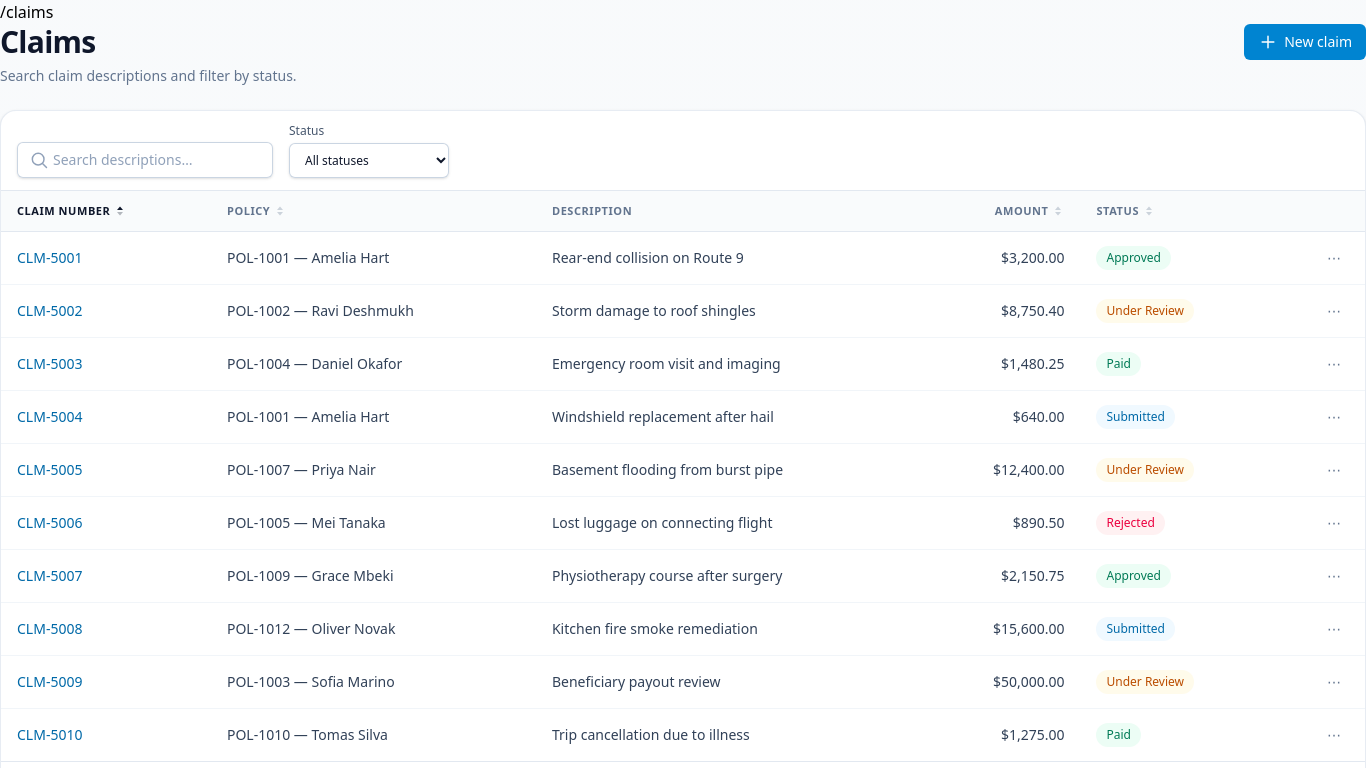
it: ClaimListPage › deletes a claim after confirmation
The width and height of the screenshot is (1366, 768).
Expected: the link "CLM-5001" is shown, left=17, top=248, right=82, bottom=267
Click the button "⋯" in the row of "CLM-5001": (1334, 258) left=1319, top=244, right=1349, bottom=272
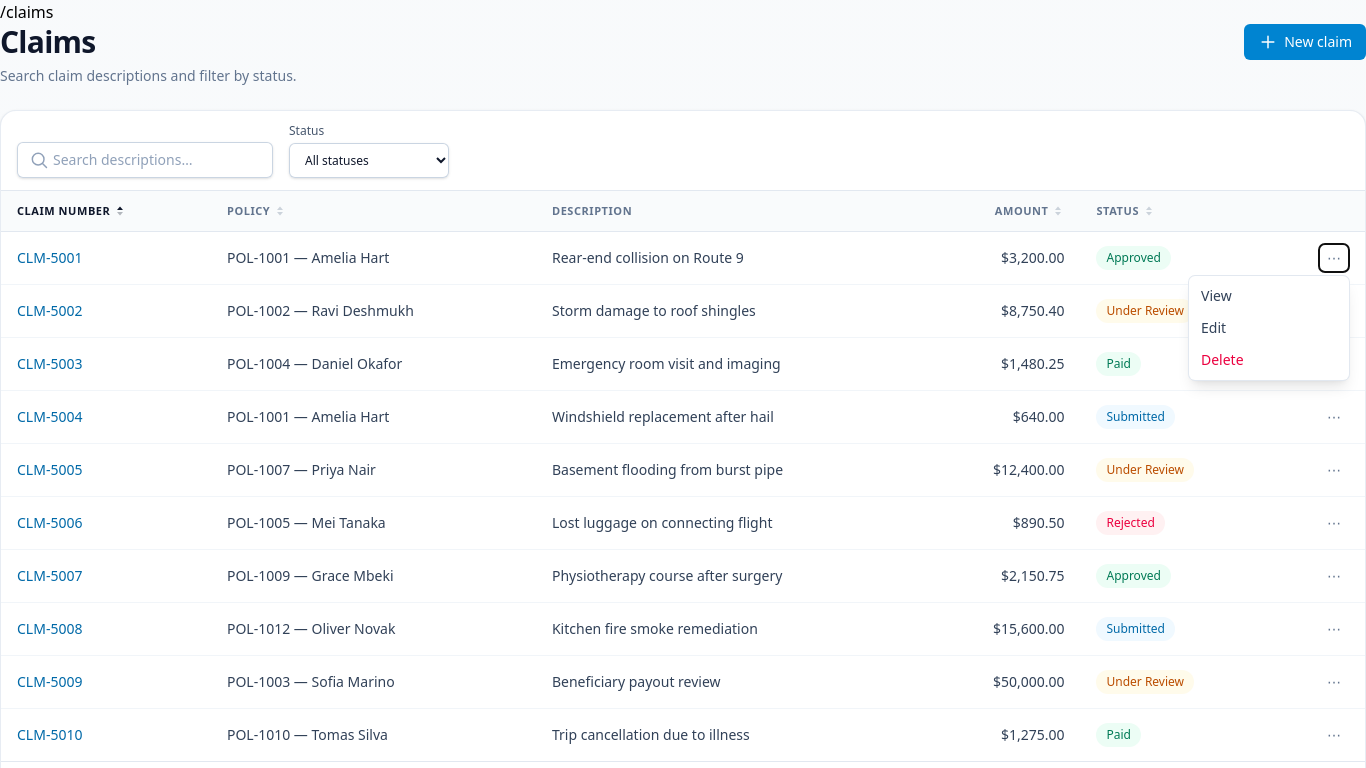
Click the menu item "Delete": (1269, 360) left=1189, top=344, right=1349, bottom=376
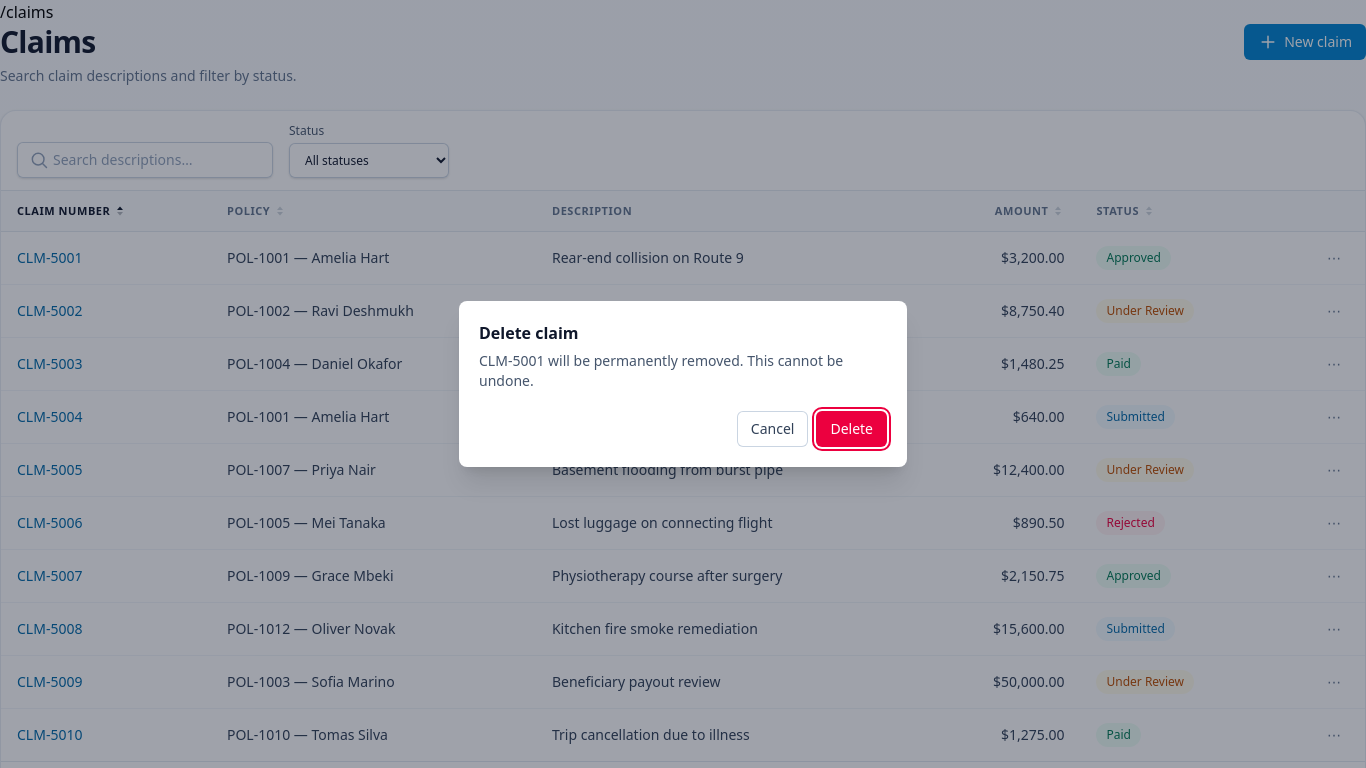
Click the button "Delete": (852, 429) left=816, top=411, right=887, bottom=447
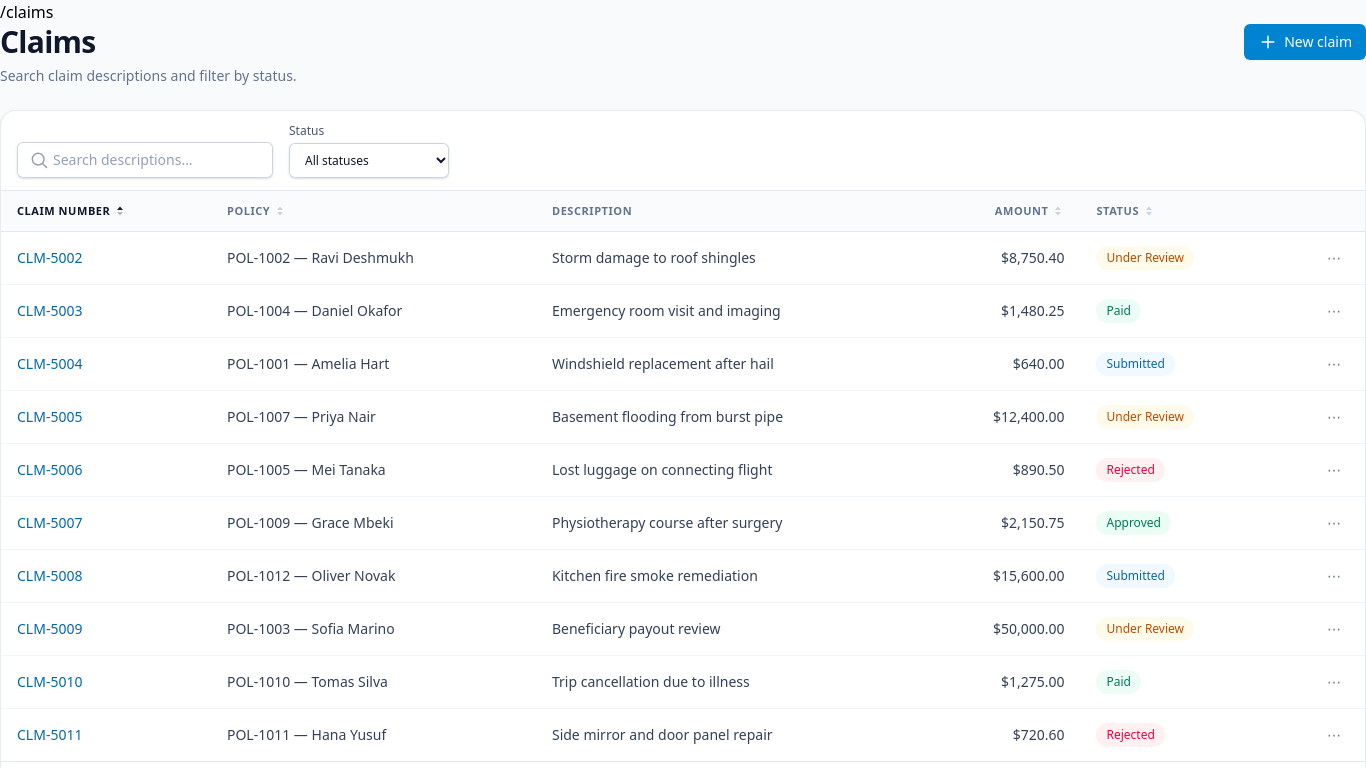
Expected: the link "CLM-5001" is gone
